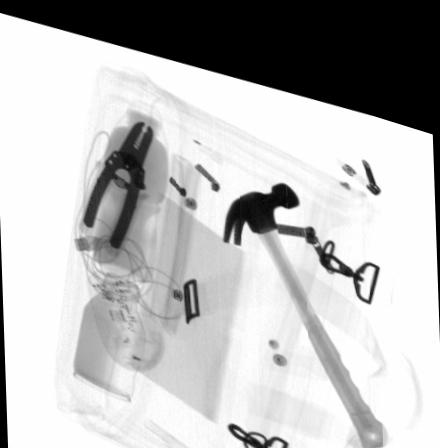Hammer: (222, 163, 390, 429)
Pliers: (78, 112, 154, 248)
